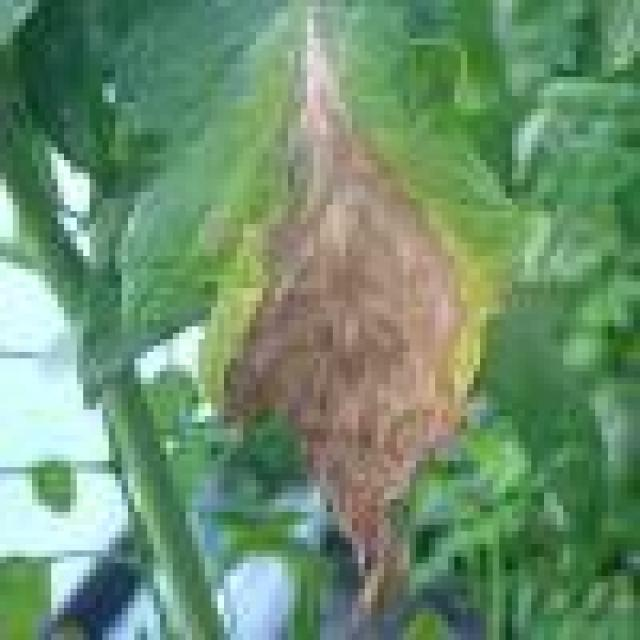Leaf Mold: (110, 14, 513, 635)
